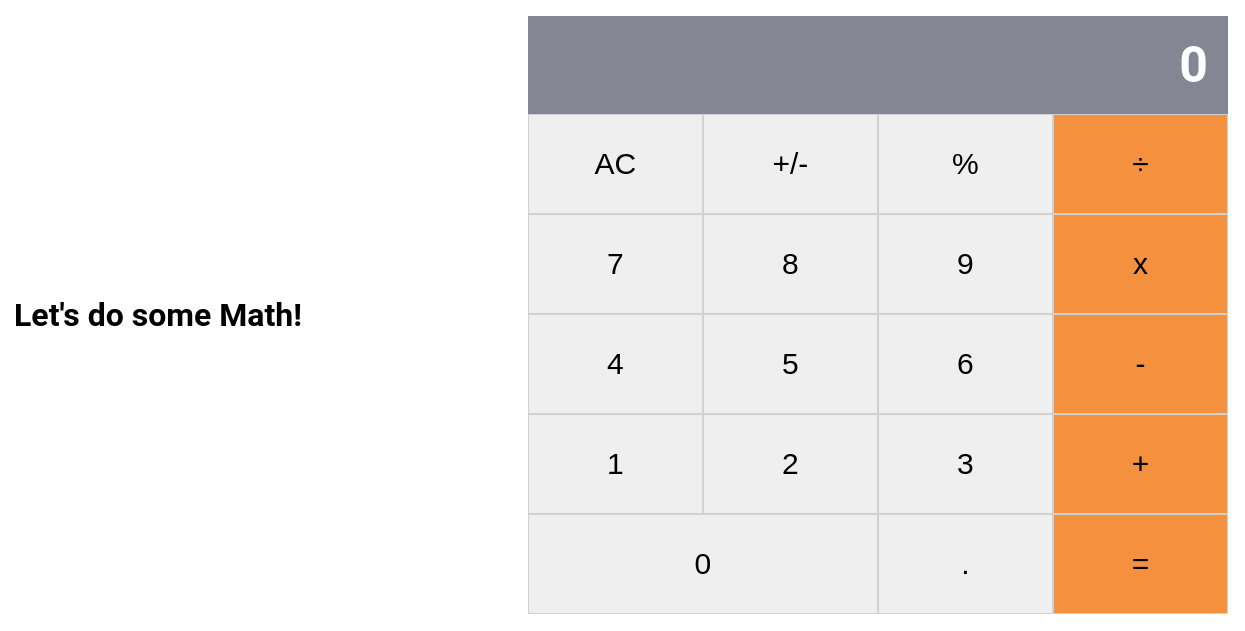
Test case: Calculator Component › Pass the pressed button and displays it.
Step 1. Click the button "1" → click(616, 464), box [528,414,703,514]
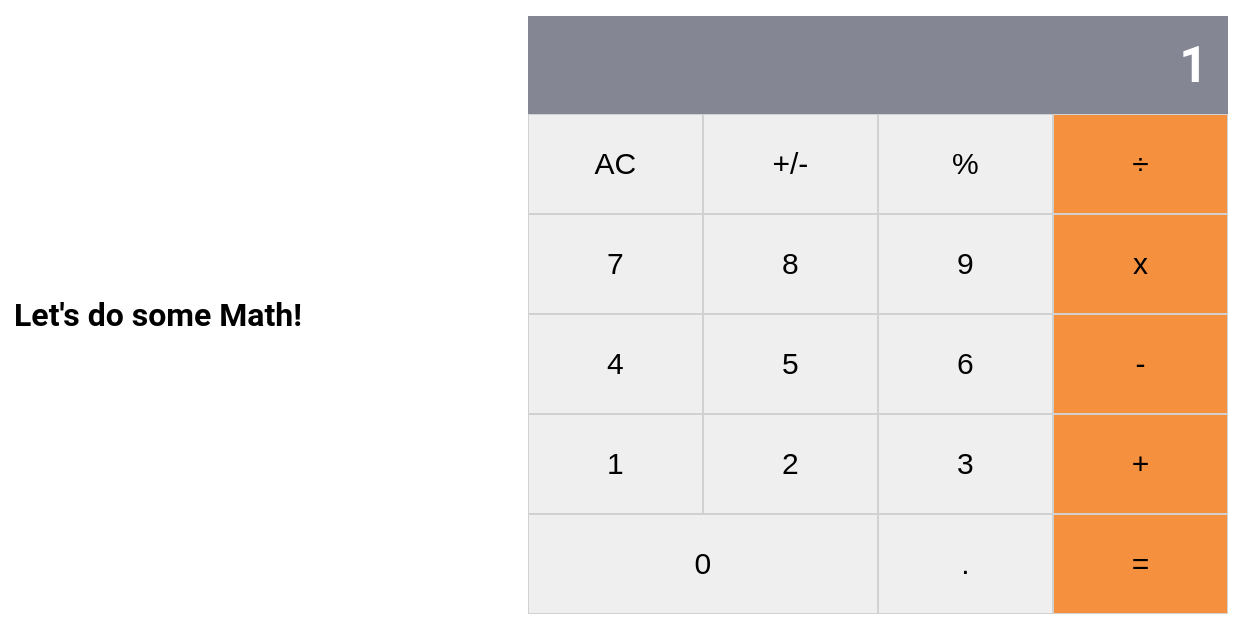
Check: the text with test id "calculator-display" reads "1", box [1179,36,1208,94]
